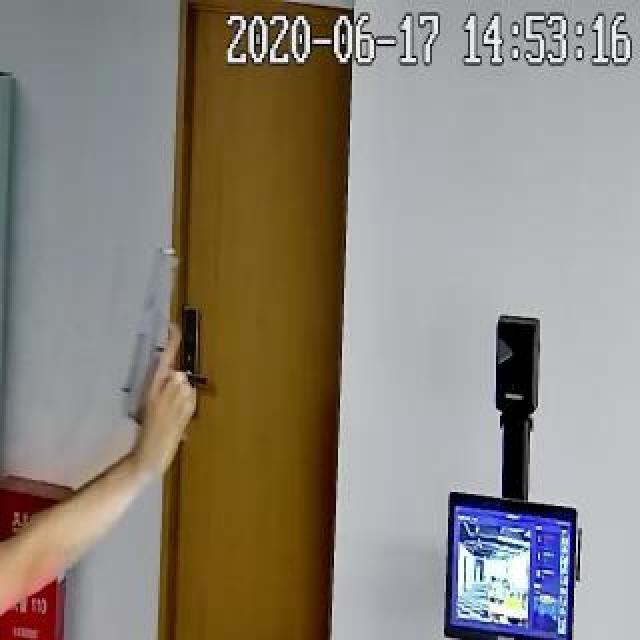Guns: (114, 233, 212, 434)
